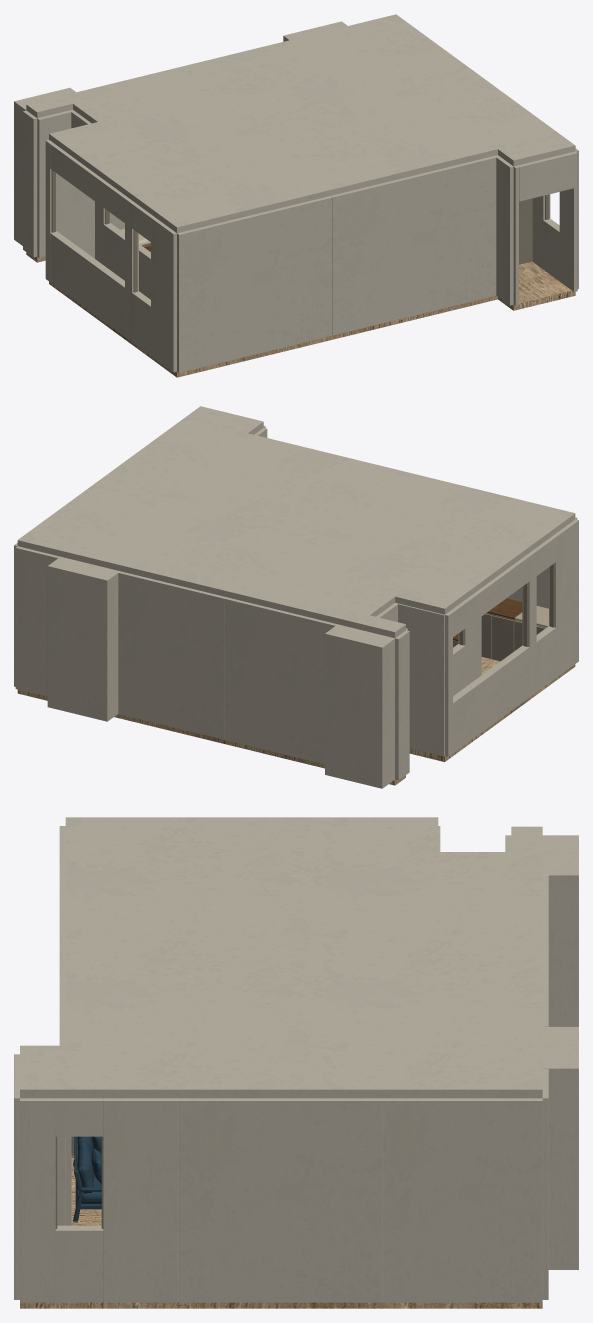
The model's file is project04-apartment.glb.
The picture shows the model from 3 angles, top to bottom: view 1: azimuth 30°, elevation 25°; view 2: azimuth 150°, elevation 25°; view 3: azimuth 270°, elevation 25°; orthographic projection. The views are drawn at different scales.
Parts seen in each view (by area): view 1: ceiling, wall-south-public__end, wall-south-kitchen__end, wall-west-exterior__sill-1, floor, wall-west-exterior__solid-0, wall-entry-left__end, wall-west-balcony-top__end, wall-west-exterior__header-1, wall-recess-left__end, wall-entry-bottom__header-0, wall-north-left-column__end (+13 smaller); view 2: ceiling, wall-north-master__end, wall-north-balcony__end, wall-north-column__end, wall-north-left-column__end, wall-west-balcony-top__end, wall-north-right__end, wall-west-exterior__sill-1, wall-west-exterior__solid-0, wall-west-exterior__header-1, wall-recess-left__end, floor (+8 smaller); view 3: ceiling, wall-east-bath__end, wall-east-master__end, wall-east-entry__end, wall-north-column__end, wall-east-entry__solid-0, wall-north-left-column__end, floor, wall-east-entry__sill-0, sofa-public__part-0, wall-east-entry__header-0, wall-north-right__end (+4 smaller).
Boxes of the visible parts, <box> form: ceiling: <box>26,14,575,233</box>; wall-south-public__end: <box>331,155,499,335</box>; wall-south-kitchen__end: <box>177,196,332,372</box>; wall-west-exterior__sill-1: <box>50,231,124,336</box>; floor: <box>26,252,575,377</box>; wall-west-exterior__solid-0: <box>151,217,176,372</box>; wall-entry-left__end: <box>496,155,513,305</box>; wall-west-balcony-top__end: <box>48,139,94,258</box>; wall-west-exterior__header-1: <box>50,143,127,222</box>; wall-recess-left__end: <box>23,110,37,257</box>; wall-entry-bottom__header-0: <box>517,152,573,201</box>; wall-north-left-column__end: <box>14,87,75,257</box>; ceiling: <box>17,406,575,637</box>; wall-north-master__end: <box>118,571,226,739</box>; wall-north-balcony__end: <box>224,597,337,764</box>; wall-north-column__end: <box>47,556,119,721</box>; wall-north-left-column__end: <box>325,624,407,788</box>; wall-west-balcony-top__end: <box>398,603,444,756</box>; wall-north-right__end: <box>15,546,59,696</box>; wall-west-exterior__sill-1: <box>453,645,529,753</box>; wall-west-exterior__solid-0: <box>549,519,578,677</box>; wall-west-exterior__header-1: <box>449,555,529,637</box>; wall-recess-left__end: <box>395,630,409,780</box>; floor: <box>17,657,575,785</box>; ceiling: <box>20,817,542,1098</box>; wall-east-bath__end: <box>179,1098,382,1302</box>; wall-east-master__end: <box>383,1098,542,1302</box>; wall-east-entry__end: <box>103,1098,178,1302</box>; wall-north-column__end: <box>542,1026,578,1269</box>; wall-east-entry__solid-0: <box>20,1098,55,1302</box>; wall-north-left-column__end: <box>506,835,578,1026</box>; floor: <box>20,1155,542,1308</box>; wall-east-entry__sill-0: <box>55,1225,103,1302</box>; sofa-public__part-0: <box>73,1136,101,1221</box>; wall-east-entry__header-0: <box>55,1098,103,1136</box>; wall-north-right__end: <box>542,1068,548,1299</box>.
Bounding box in the file's own units: 8.25 × 3.04 × 7.11.
15 materials, 14 textured.
